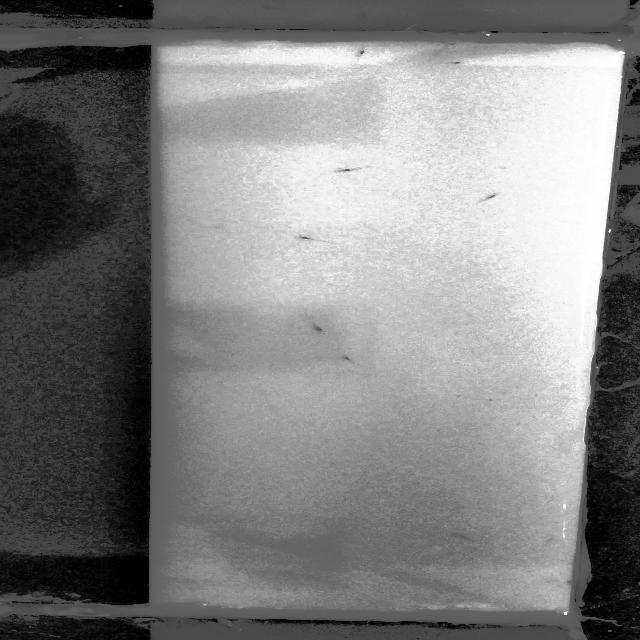shrimp: (436, 56, 477, 69), (335, 164, 373, 174), (478, 189, 501, 202), (298, 234, 328, 243), (451, 532, 484, 540), (352, 48, 372, 60), (308, 324, 328, 335), (338, 352, 356, 364)
